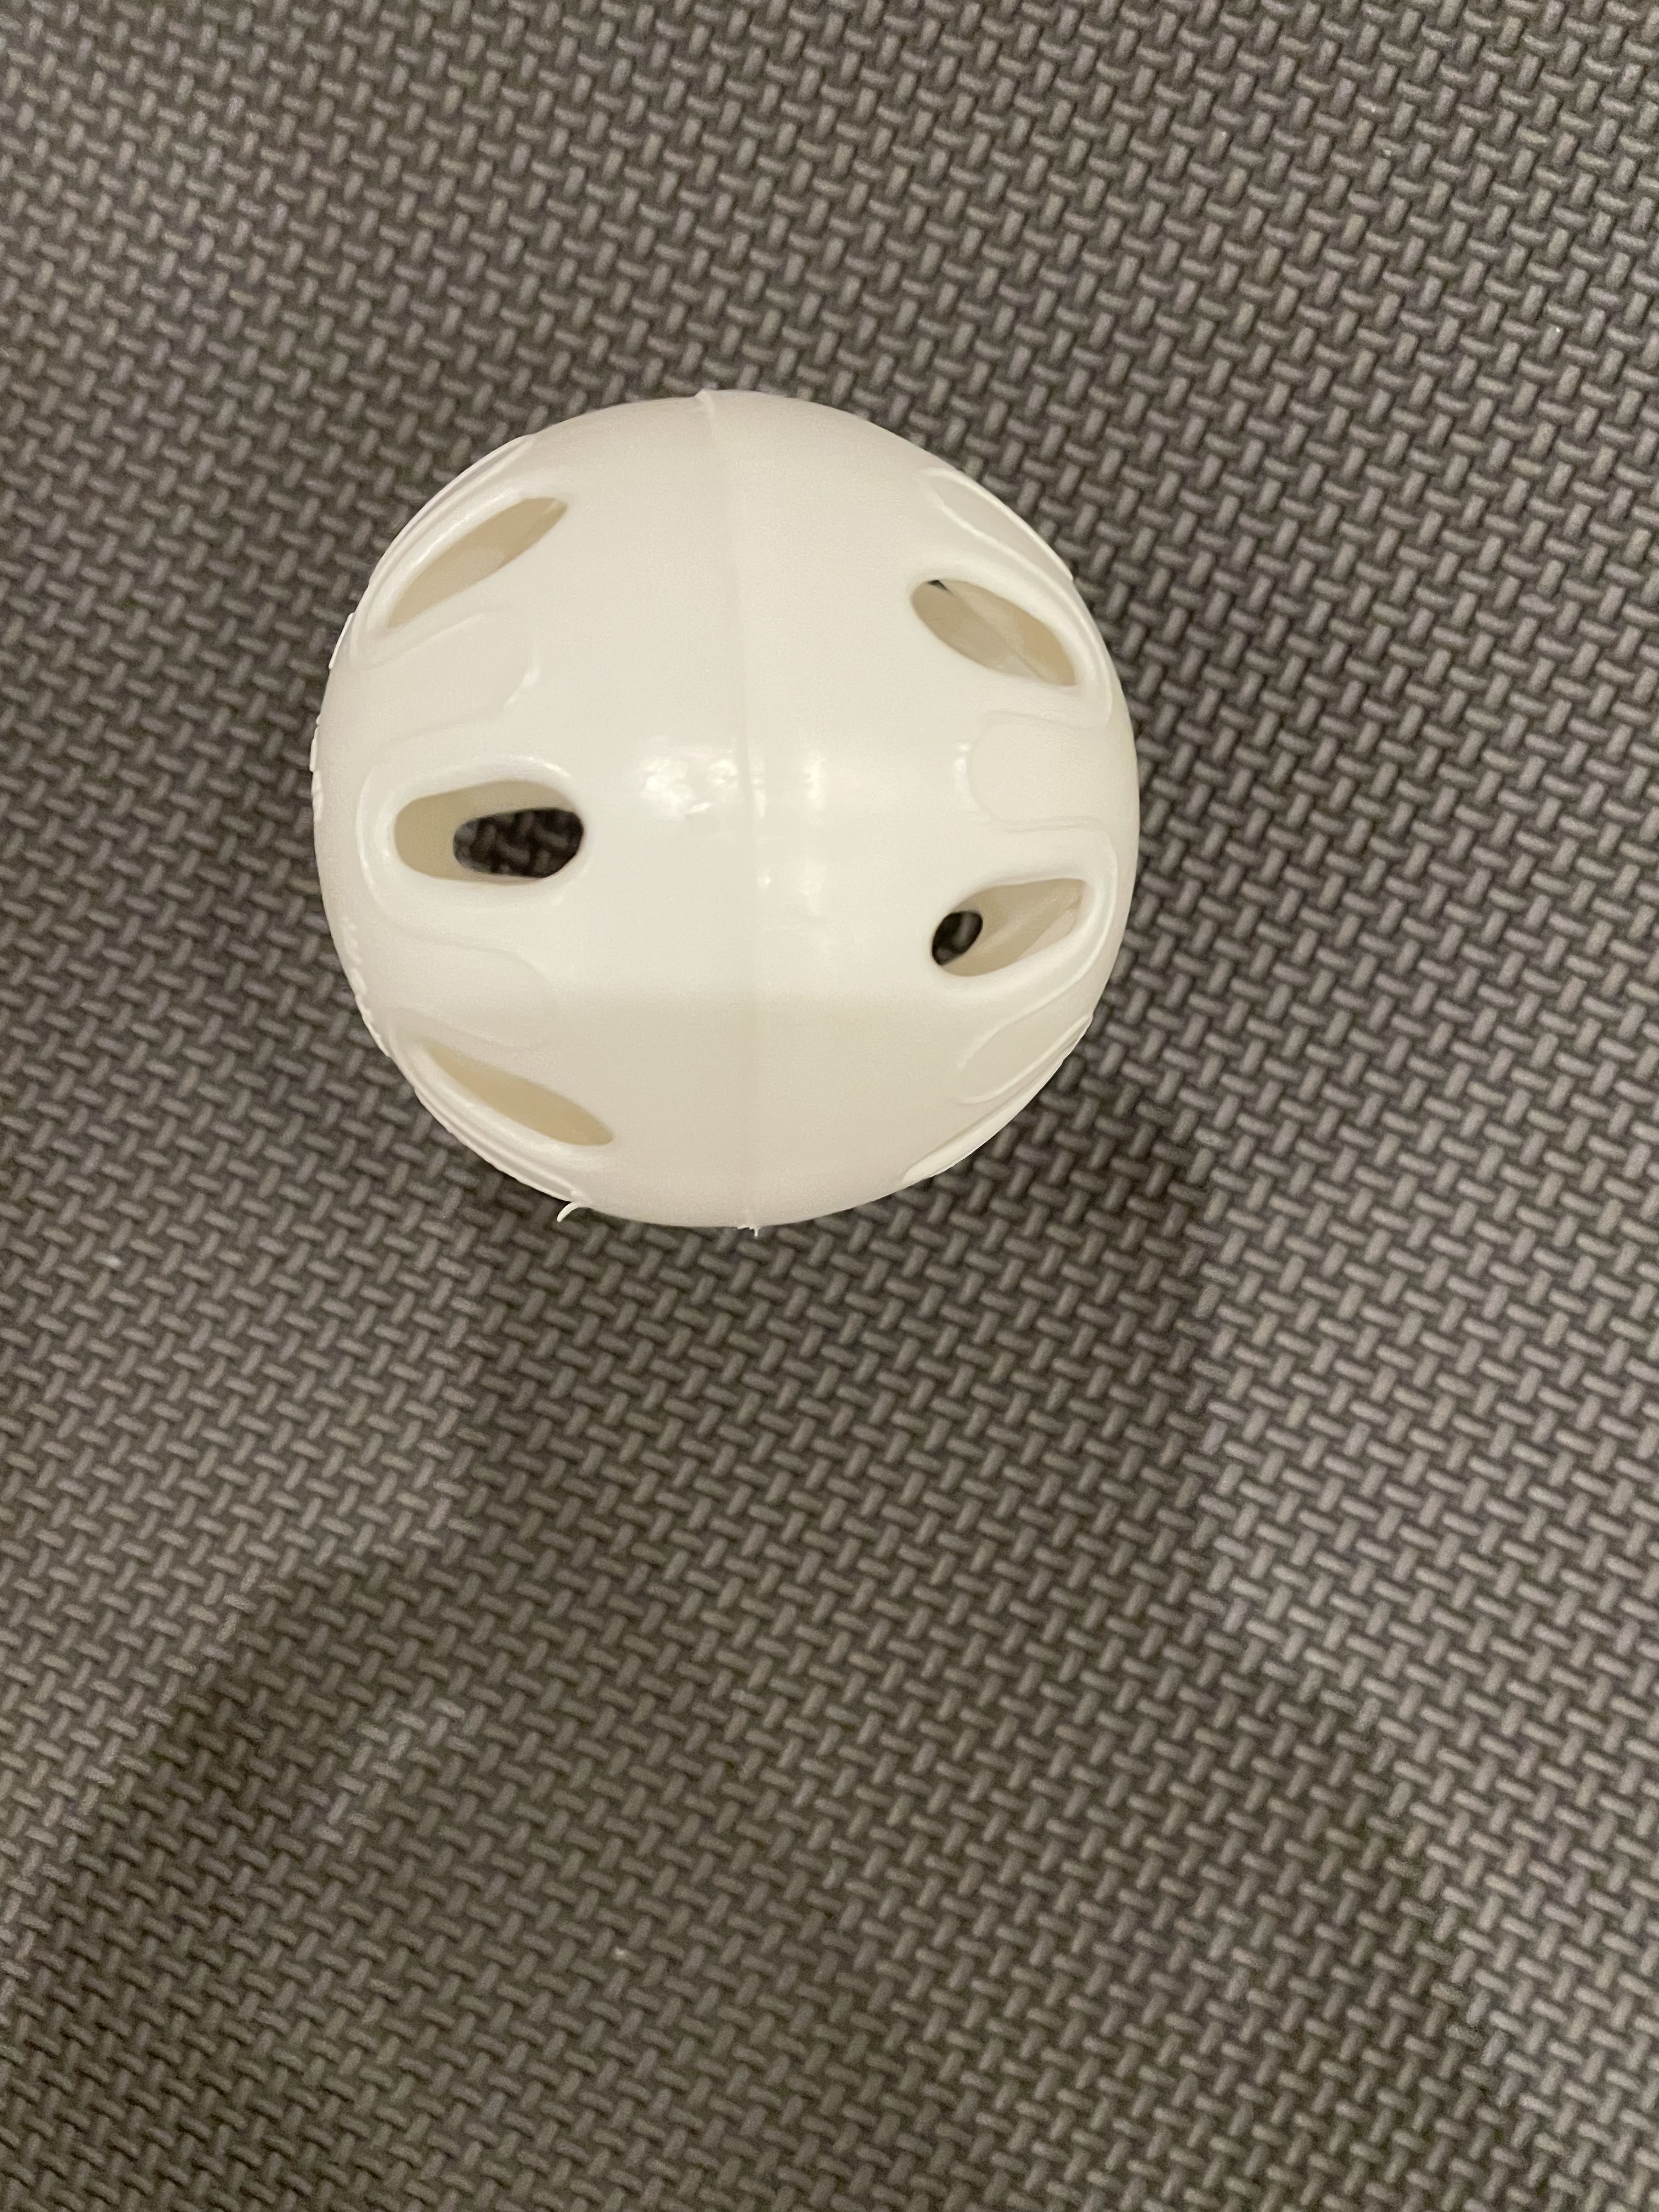ball: (221, 249, 1256, 1284)
